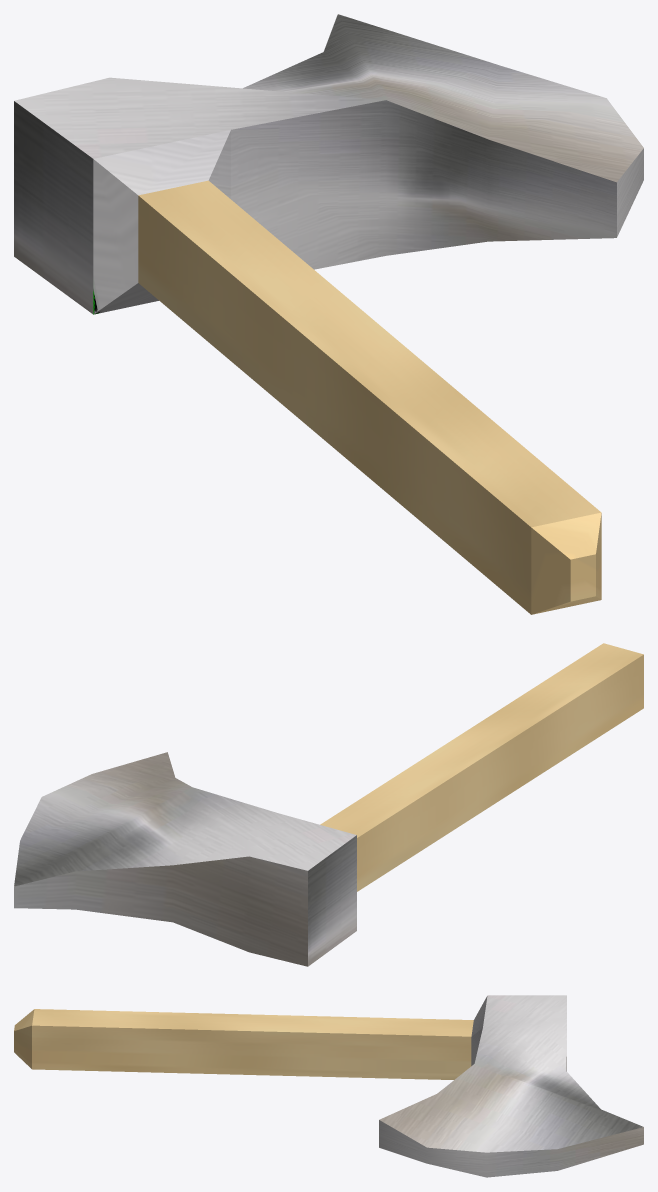
The model's file is Axe.FBX.
3 renders of one model, top to bottom at view 1: azimuth 30°, elevation 25°; view 2: azimuth 150°, elevation 25°; view 3: azimuth 270°, elevation 25°, orthographic. The views are drawn at different scales.
Visible parts, largest first — view 1: Box001; view 2: Box001; view 3: Box001.
Boxes of the visible parts, box(x1,y1,x2,y2) form: Box001: box(14, 14, 643, 614); Box001: box(14, 643, 643, 966); Box001: box(14, 995, 643, 1177).
Size of the model in its own units: 0.4847 by 0.137 by 1.
Materials: 1 (1 with a texture image).
